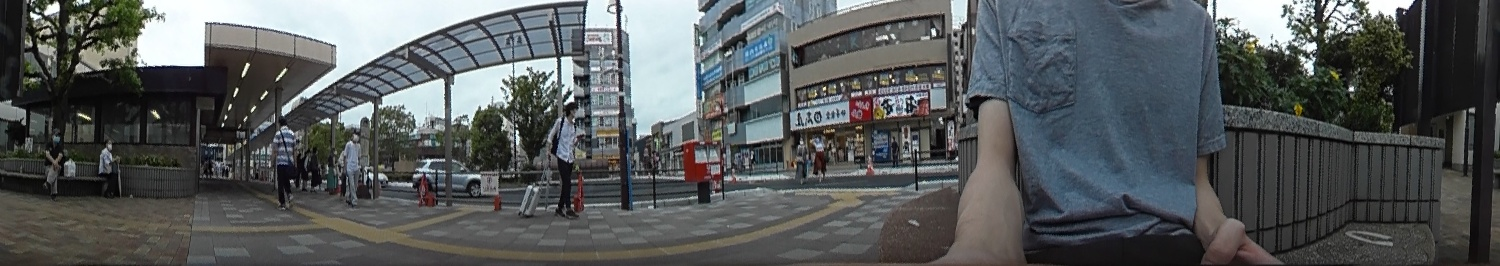difficult_person: (810, 133, 828, 183), (790, 135, 807, 186), (325, 147, 338, 197), (309, 146, 321, 190)
person: (552, 100, 580, 216), (272, 113, 295, 209), (338, 127, 363, 205), (42, 126, 66, 196), (98, 135, 123, 197)
